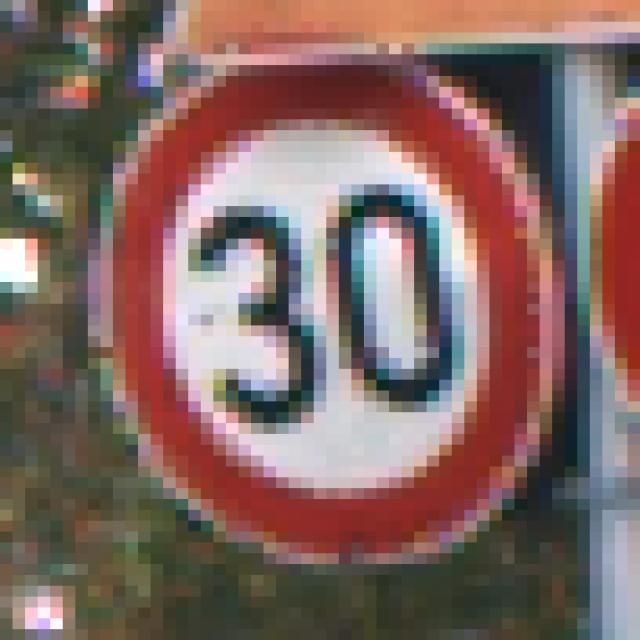Speed Limit -30-: (69, 49, 571, 580)
